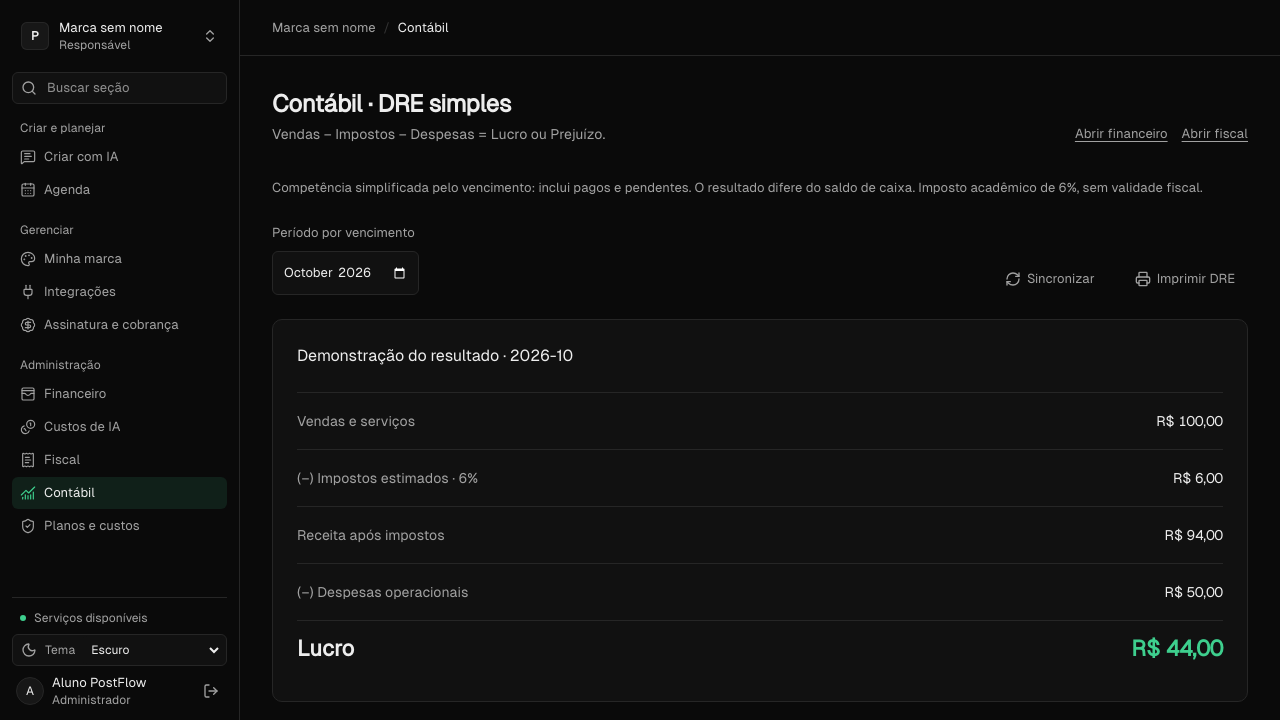
Scenario: AccountingPage › limpa resultado anterior se uma atualização falhar e permite tentar de novo
expect the text "Lucro" is shown: met, box left=297, top=639, right=354, bottom=659
Click the button "Sincronizar". click: (1050, 279)
box: left=992, top=263, right=1108, bottom=295
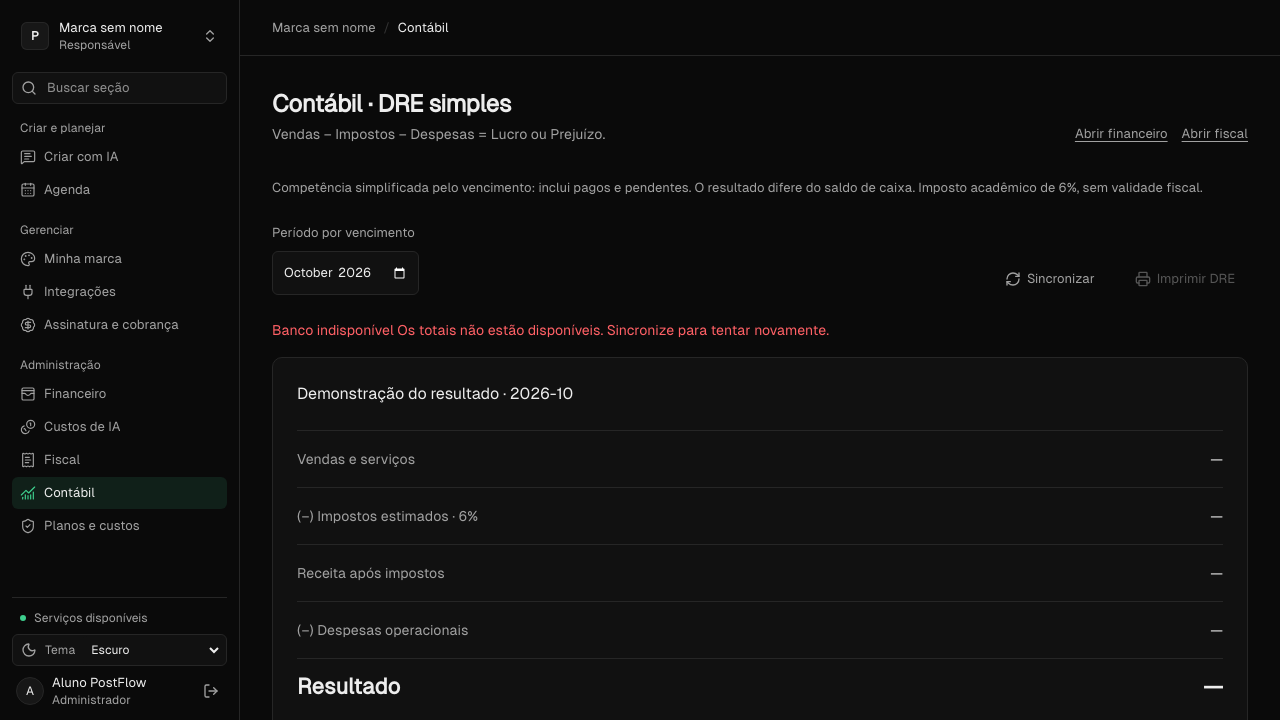
expect the text "—" is shown 5 times: met, box left=1210, top=449, right=1223, bottom=469; left=1210, top=506, right=1223, bottom=526; left=1210, top=563, right=1223, bottom=583; left=1210, top=620, right=1223, bottom=640; left=1203, top=677, right=1223, bottom=697
expect the message shows "Banco indisponível": met, box left=272, top=322, right=394, bottom=338
expect the button "Imprimir DRE" is disabled: met, box left=1122, top=263, right=1248, bottom=295
Click the button "Sincronizar". click: (1050, 279)
box: left=992, top=263, right=1108, bottom=295
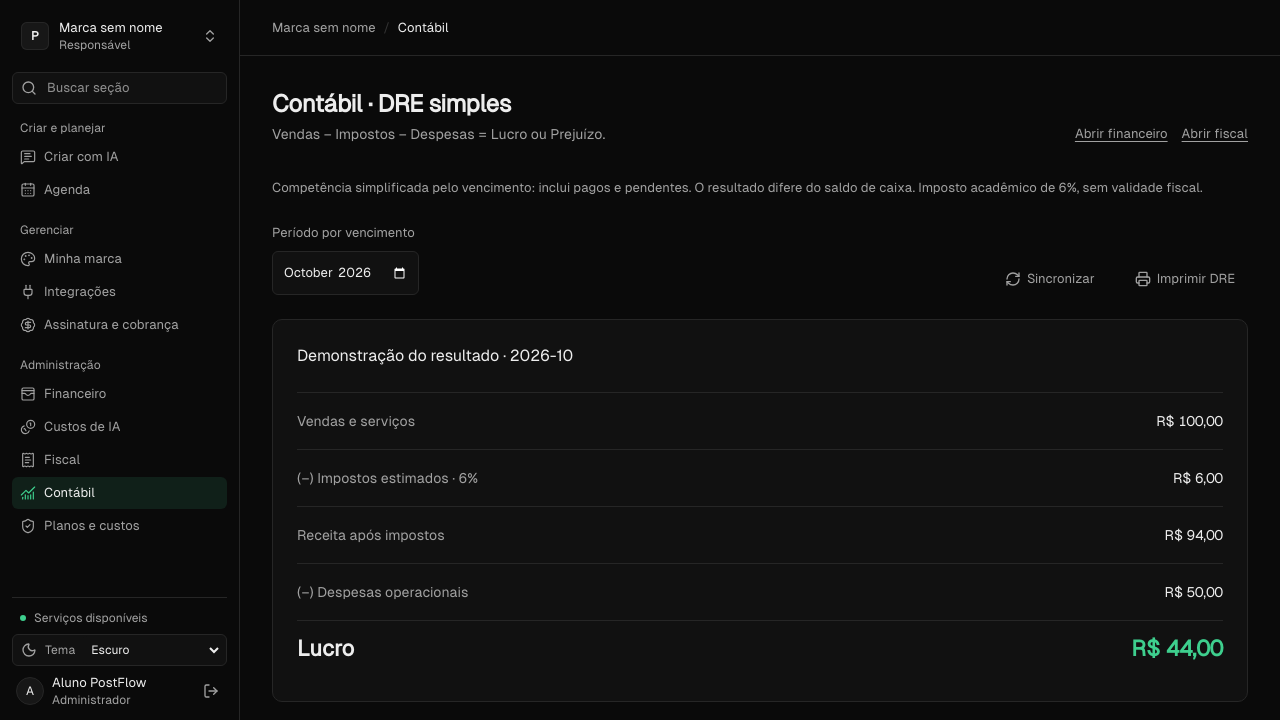
expect the text "Lucro" is shown: met, box left=297, top=639, right=354, bottom=659
